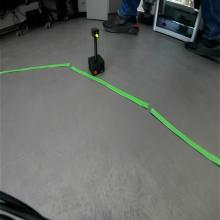green: (91, 26, 99, 38)
